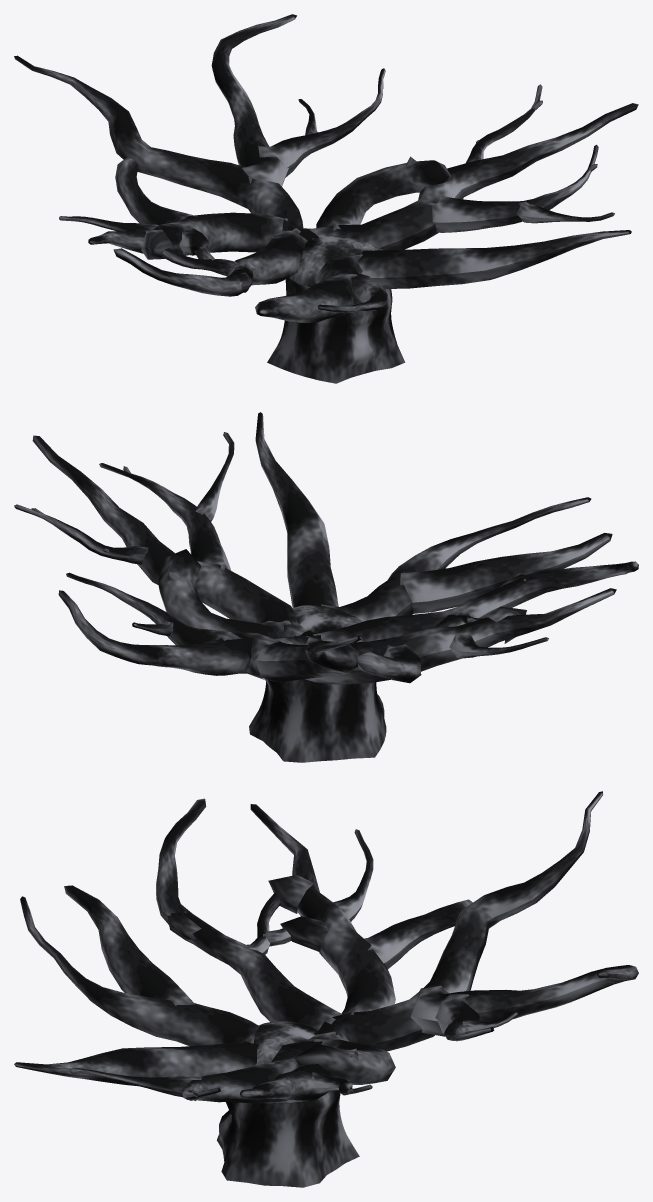
The model's file is TarTree03.glb.
3 renders of one model, top to bottom at view 1: azimuth 30°, elevation 25°; view 2: azimuth 150°, elevation 25°; view 3: azimuth 270°, elevation 25°, orthographic. The views are drawn at different scales.
Parts seen in each view (by area): view 1: TarTree03_limbs; view 2: TarTree03_limbs; view 3: TarTree03_limbs.
Part boxes in pixels (x1,y1,x2,y2): TarTree03_limbs: [14, 14, 638, 383]; TarTree03_limbs: [14, 412, 638, 762]; TarTree03_limbs: [14, 791, 638, 1187].
Bounding box in the file's own units: 9.52 × 3.98 × 8.44.
Materials: 1 (1 with a texture image).
